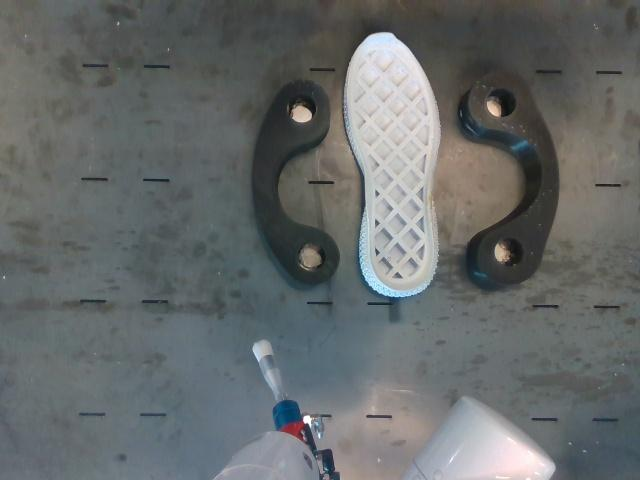shoes: (348, 33, 441, 291)
